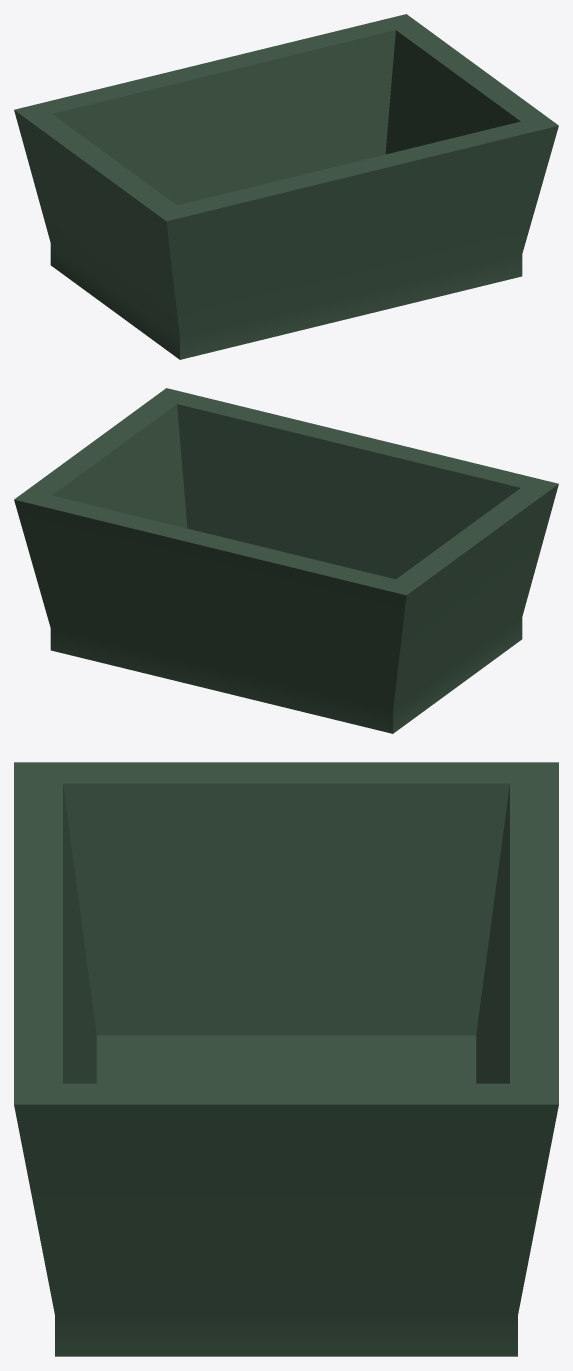
The model's file is Sobeys_BIn.fbx.
The picture shows the model from 3 angles, top to bottom: view 1: azimuth 30°, elevation 25°; view 2: azimuth 150°, elevation 25°; view 3: azimuth 270°, elevation 25°; orthographic projection. The views are drawn at different scales.
Parts seen in each view (by area): view 1: pCube177; view 2: pCube177; view 3: pCube177.
Boxes of the visible parts, left/top/right/bottom form: pCube177: left=14, top=14, right=558, bottom=359; pCube177: left=14, top=388, right=558, bottom=733; pCube177: left=14, top=762, right=558, bottom=1356.
Bounding box in the file's own units: 0.5703 × 0.2125 × 0.3837.
